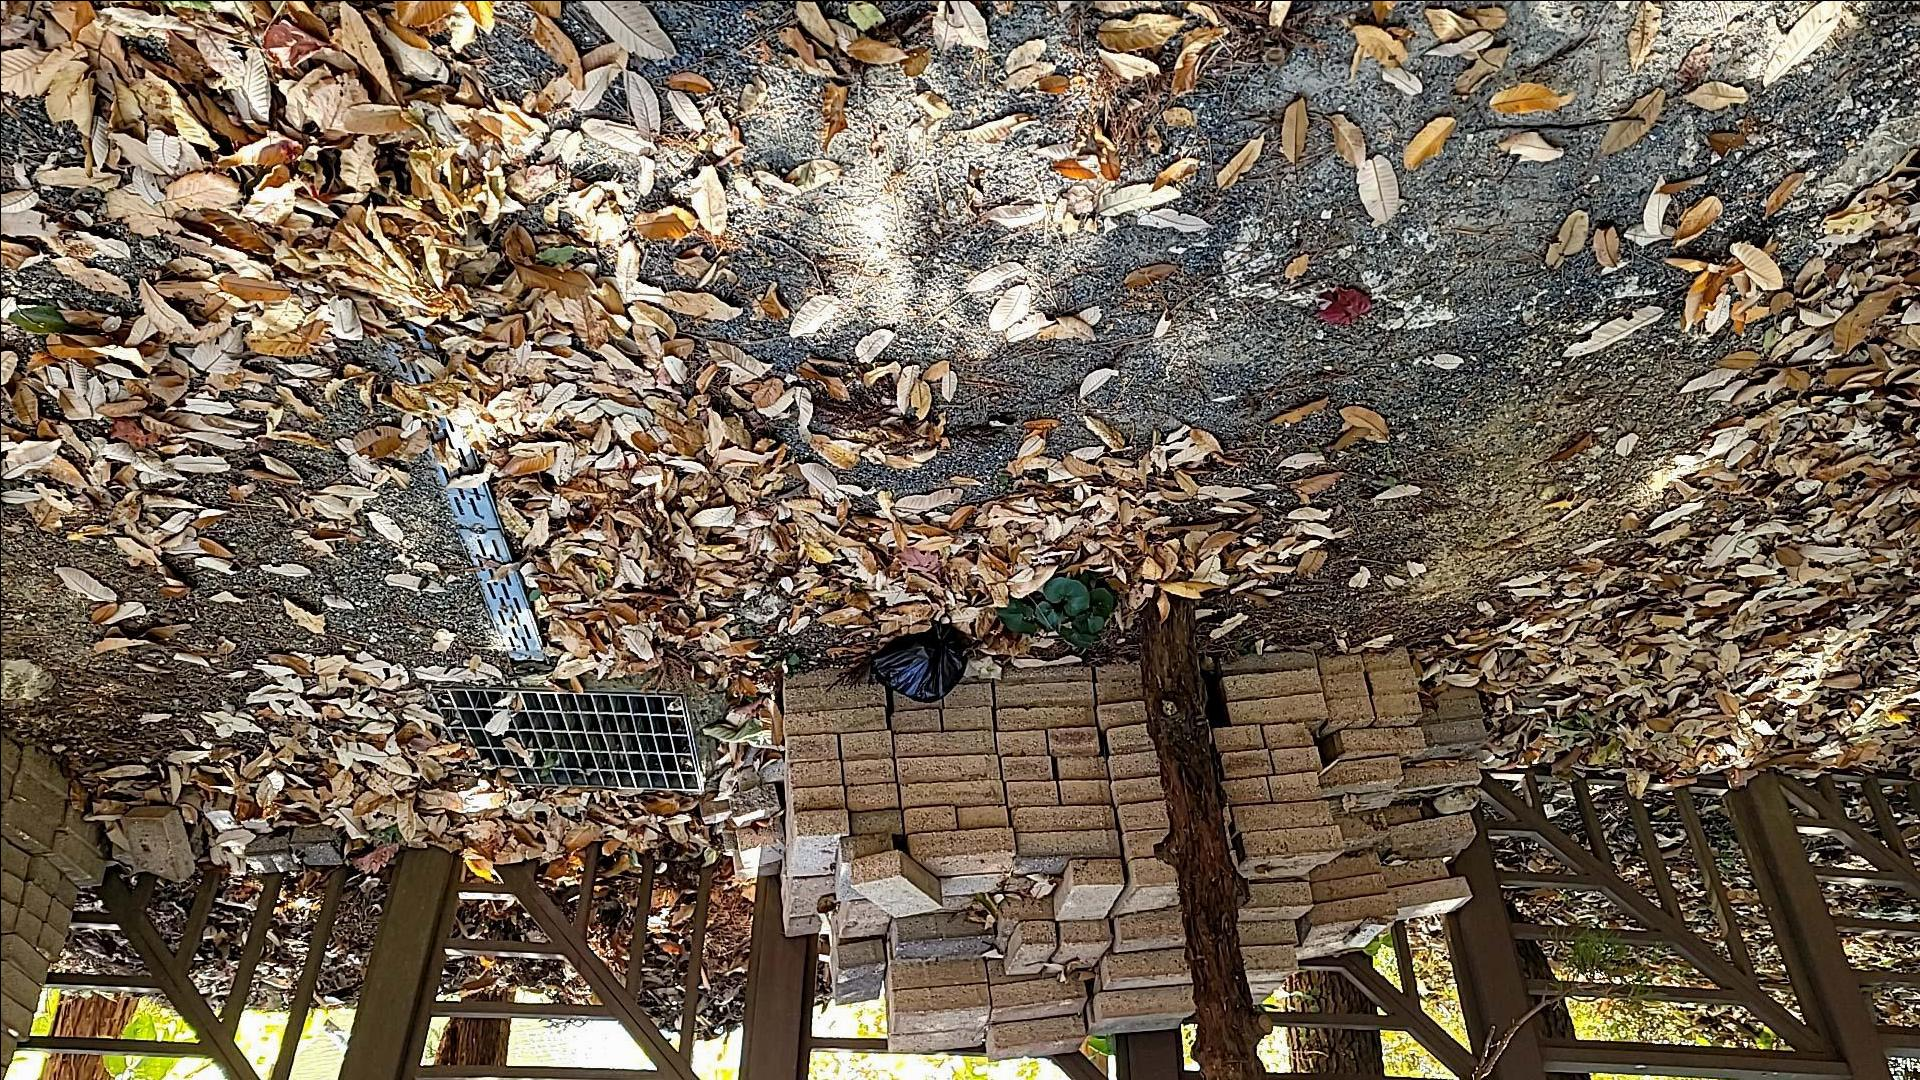black_bag: (866, 625, 973, 705)
